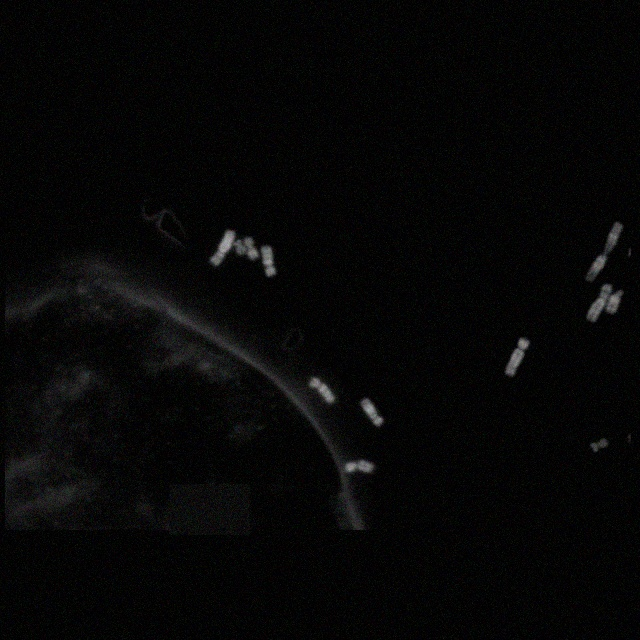chromosome: (584, 222, 622, 280), (584, 283, 610, 323), (504, 337, 528, 377), (210, 230, 233, 266), (361, 398, 383, 428), (311, 378, 334, 404), (606, 289, 626, 317), (262, 246, 276, 276), (344, 461, 374, 475), (245, 237, 259, 260), (590, 438, 610, 454), (235, 240, 245, 256)
